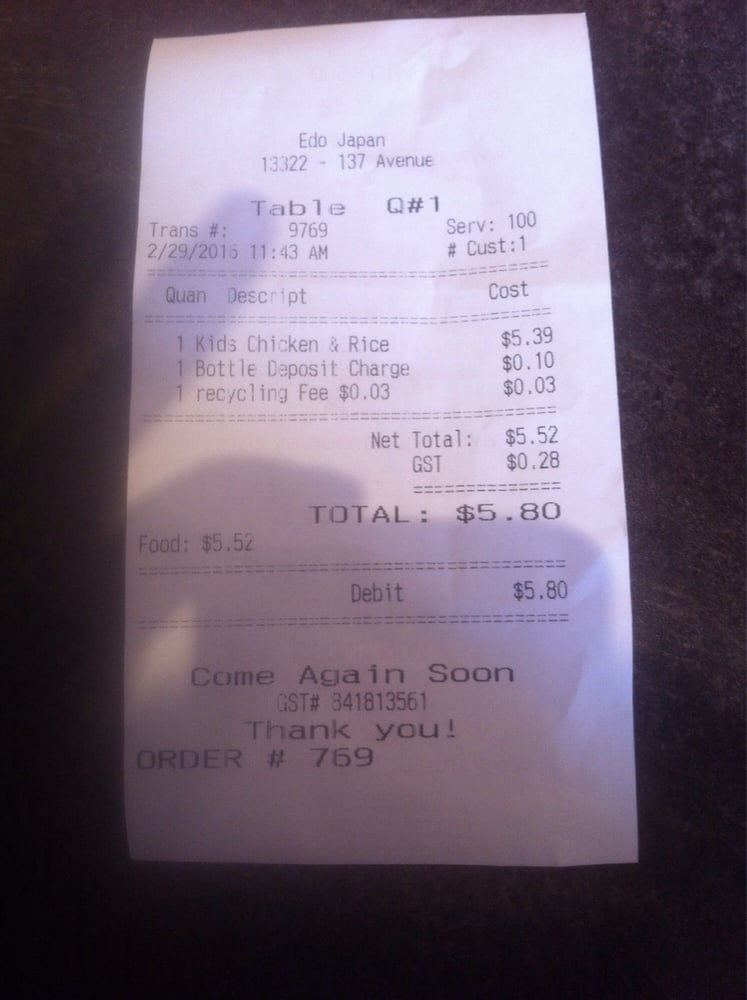Additional details: (119, 555, 649, 831)
Purchase summary: (127, 191, 587, 585)
Receipt: (109, 15, 645, 872)
Shop details: (215, 104, 464, 185)
